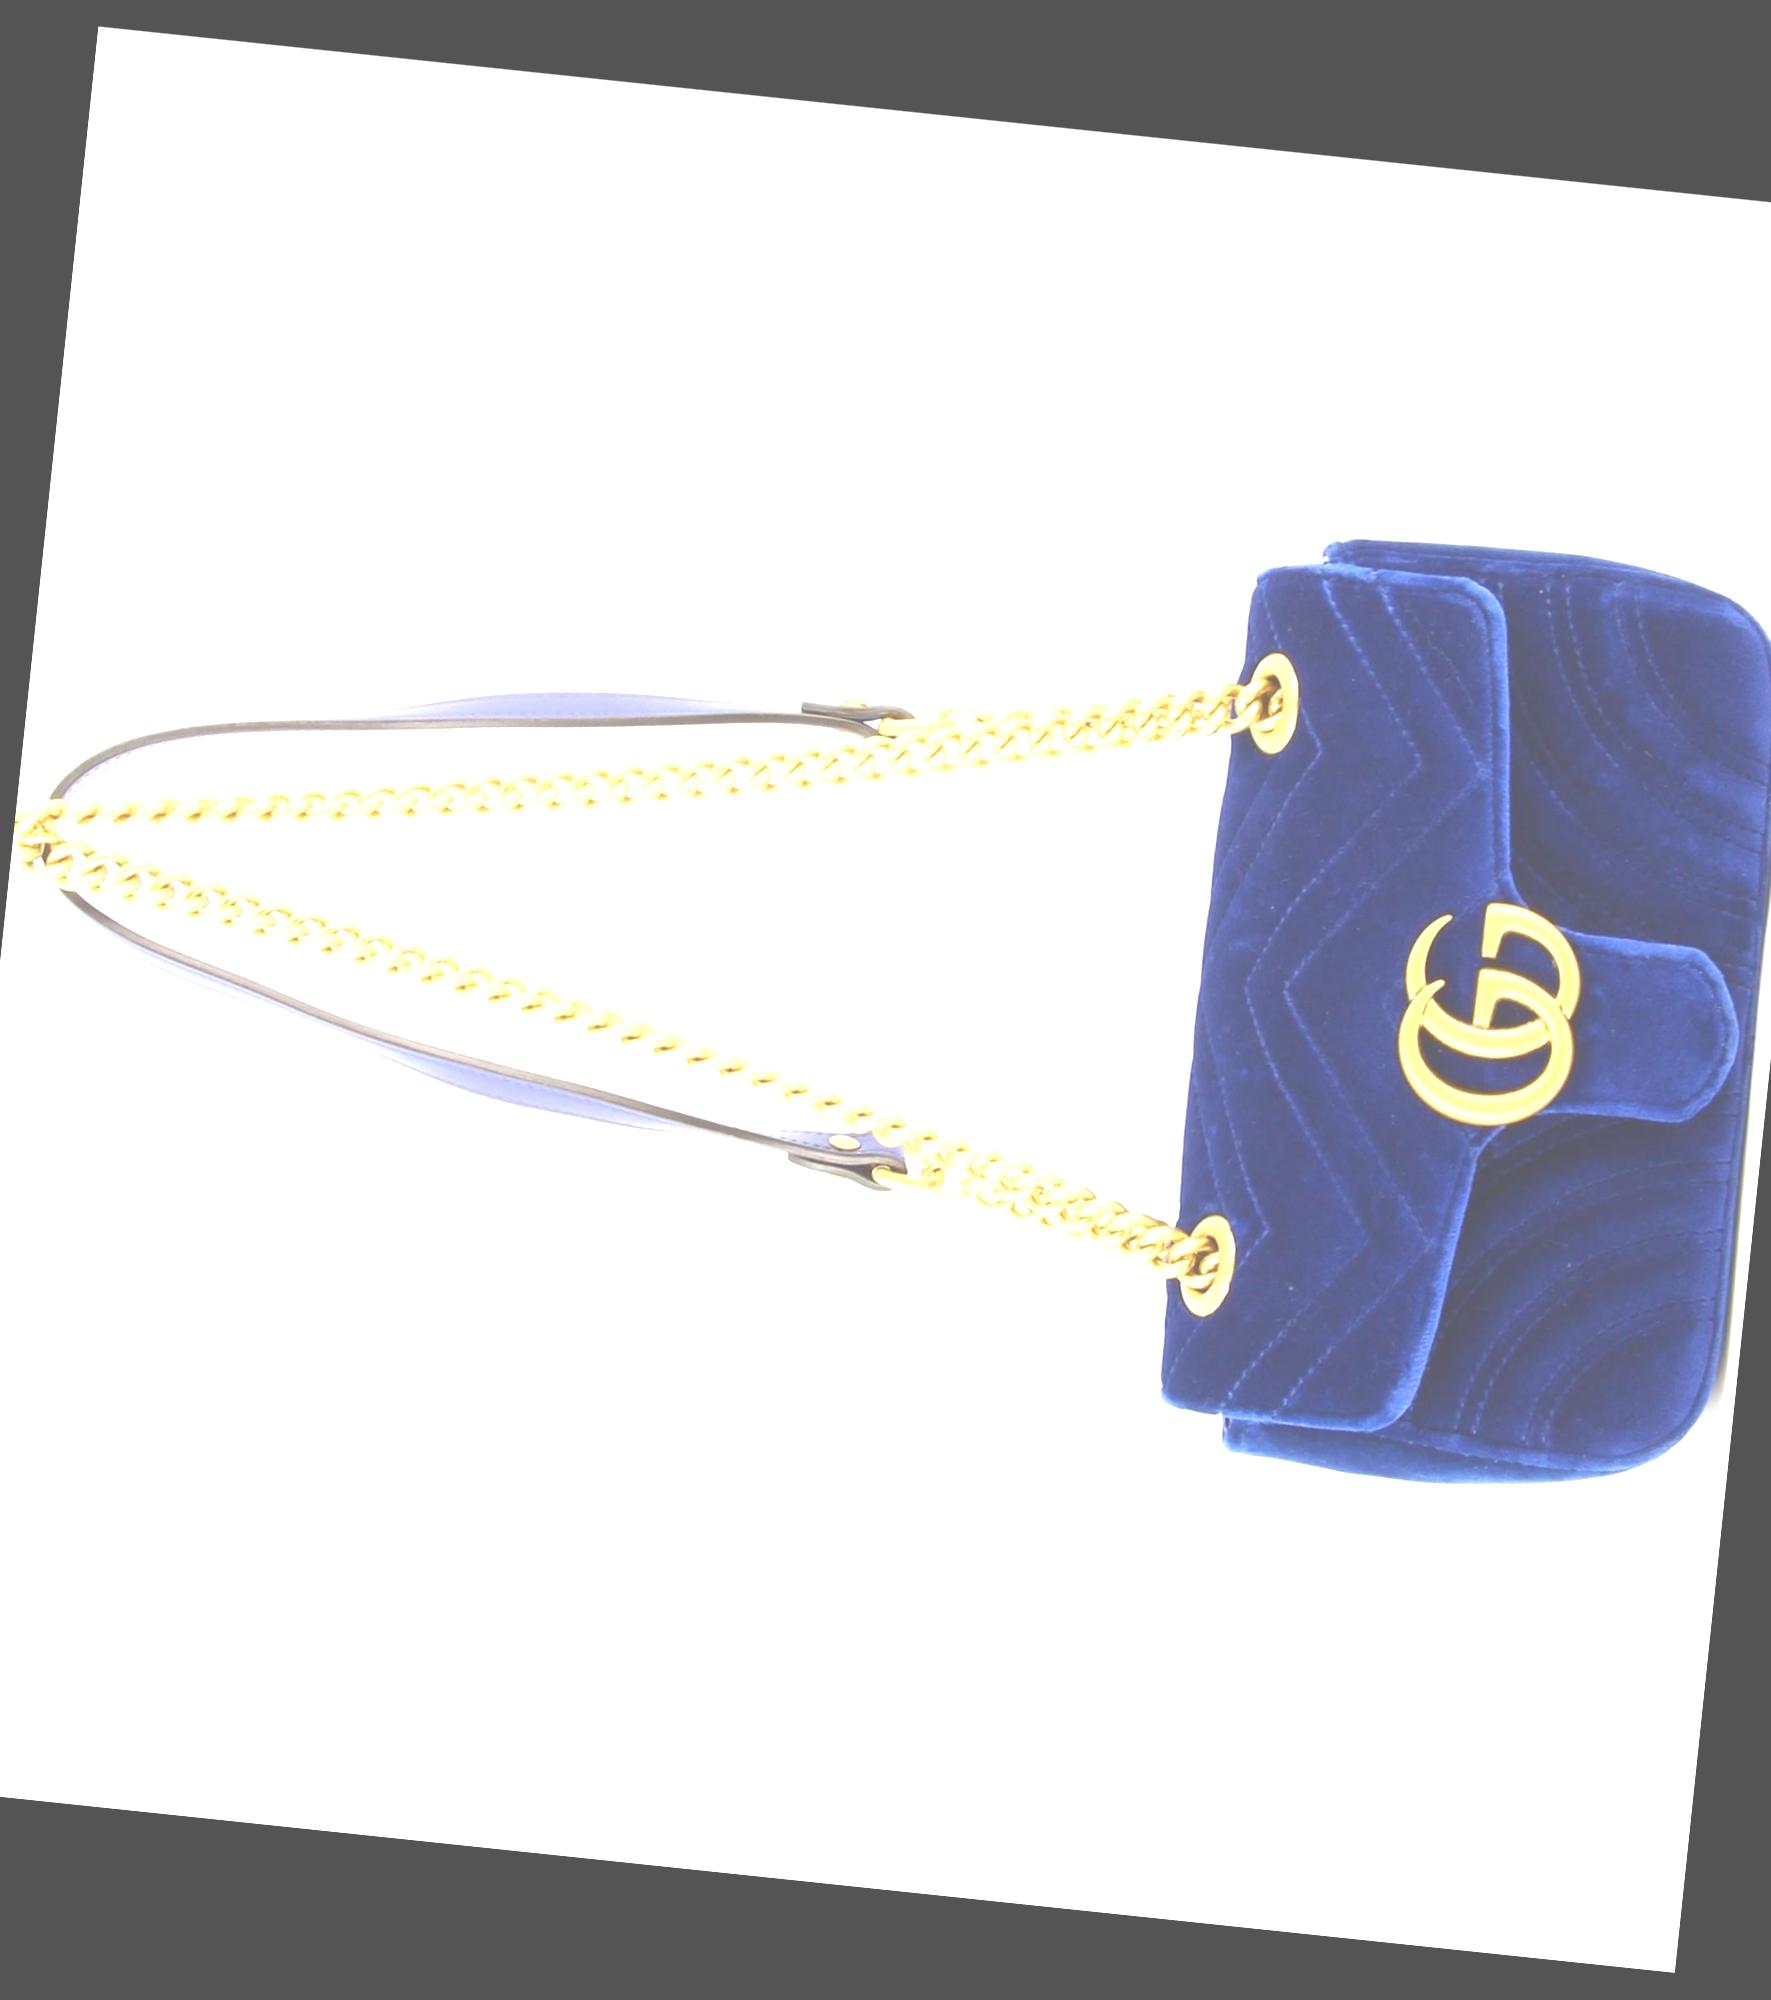GUCCI: (1388, 894, 1585, 1133)
